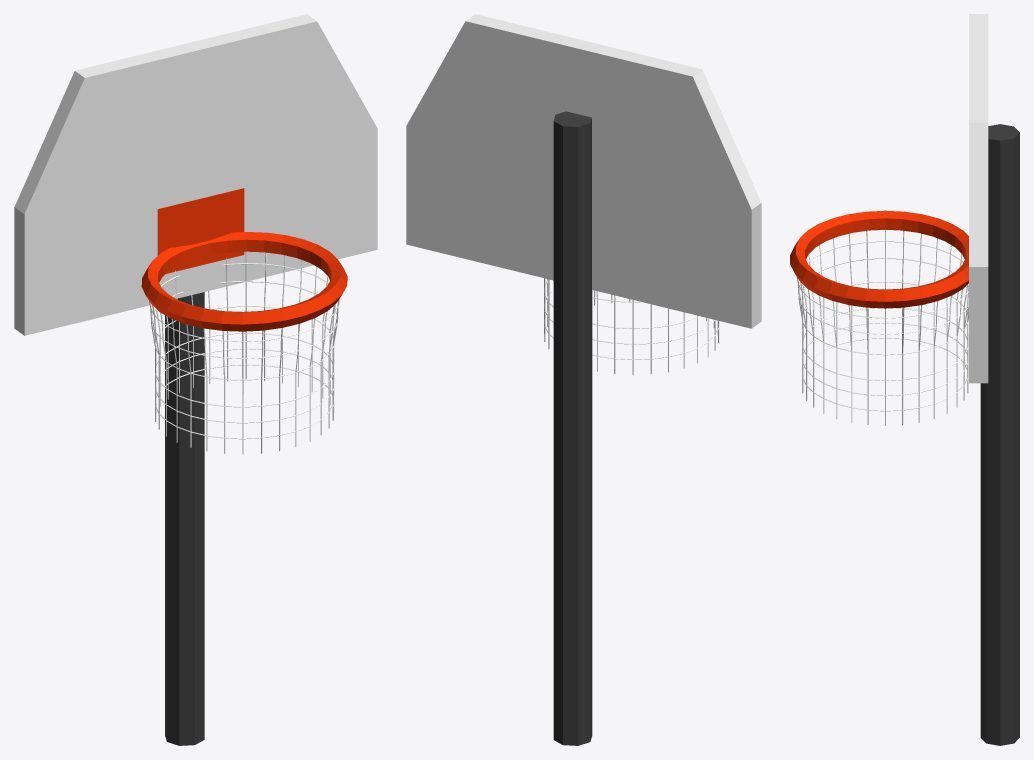
The model's file is net.fbx.
The picture shows the model from 3 angles, left to right: view 1: azimuth 30°, elevation 25°; view 2: azimuth 150°, elevation 25°; view 3: azimuth 270°, elevation 25°; orthographic projection. The views are drawn at different scales.
Parts seen in each view (by area): view 1: Cube, Cylinder, Torus, Torus.001; view 2: Cube, Cylinder, Torus.001; view 3: Cylinder, Torus, Torus.001, Cube.
Boxes of the visible parts, <box> form: Cube: <box>14,14,377,335</box>; Cylinder: <box>165,292,204,745</box>; Torus: <box>141,232,347,331</box>; Torus.001: <box>149,251,340,454</box>; Cube: <box>406,14,761,328</box>; Cylinder: <box>553,111,592,745</box>; Torus.001: <box>544,278,719,374</box>; Cylinder: <box>980,124,1019,745</box>; Torus: <box>790,210,968,308</box>; Torus.001: <box>797,229,968,425</box>; Cube: <box>969,14,988,383</box>.
Size of the model in its own units: 215 by 406 by 126.
